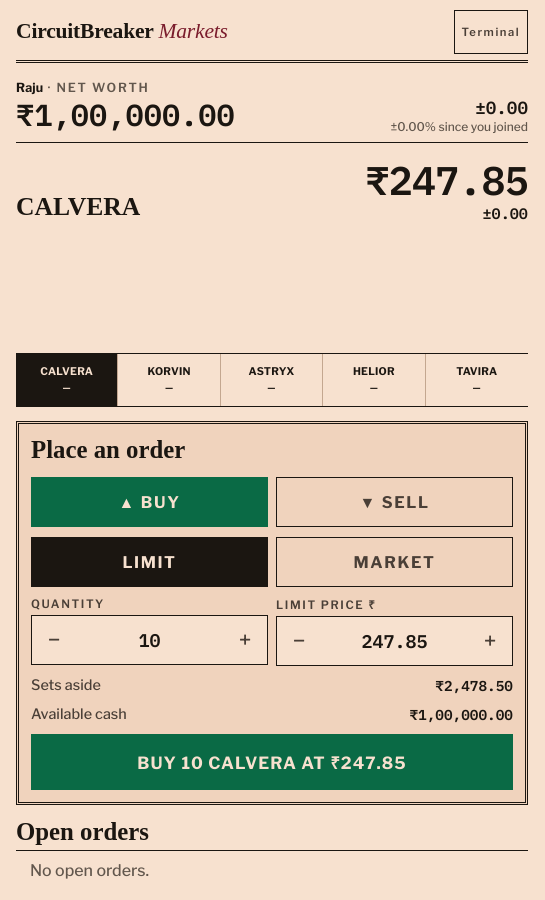
placing an order from a phone on http (paper theme) › when no connection, says so and logs the error
The image size is (545, 900).
Click the button "BUY 10 CALVERA AT ₹247.85". click: (272, 762)
box: left=31, top=734, right=513, bottom=790
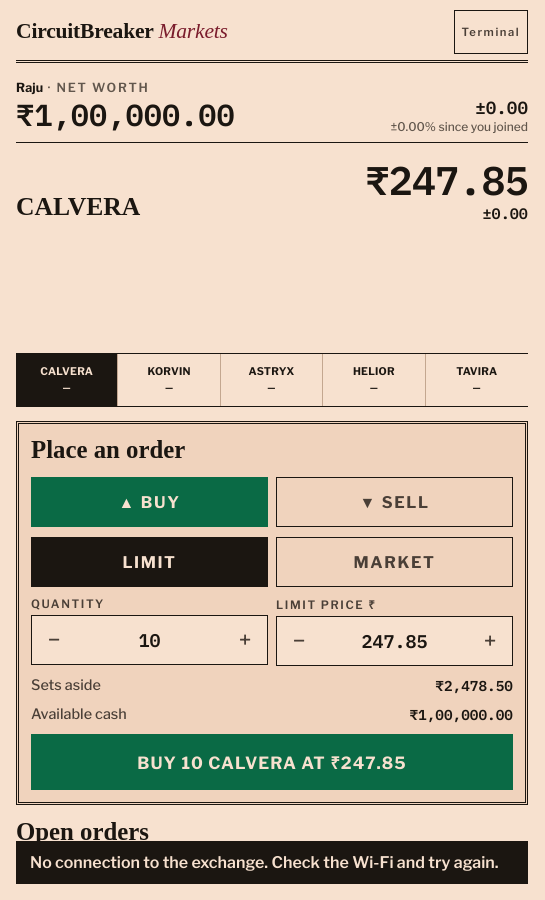
Expected: the message reads "No connection to the exchange. Check the Wi-Fi and try again.", left=30, top=853, right=499, bottom=872
